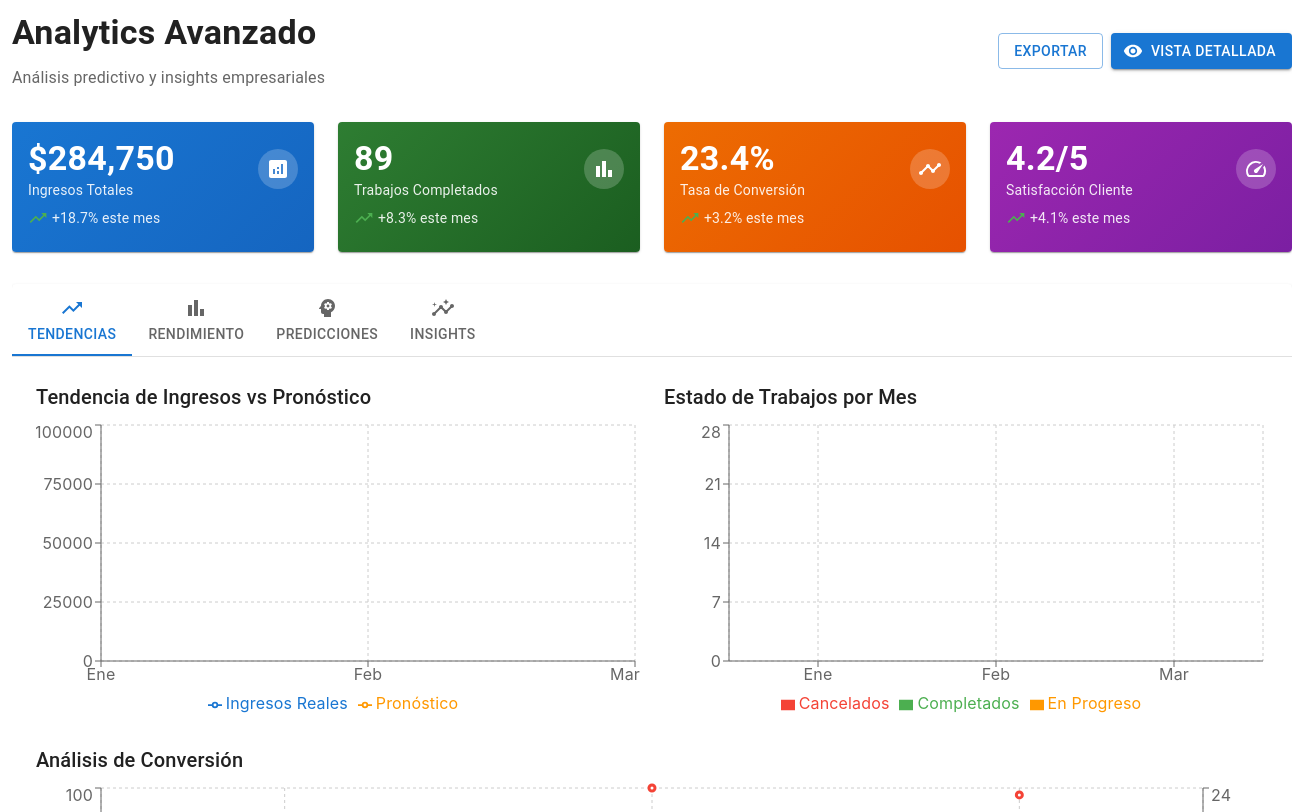
AdvancedAnalytics Component › switches between tabs correctly
expect the heading "Tendencia de Ingresos vs Pronóstico" is shown: met, box 36,385 -> 371,409
# Switch to Rendimiento tab
Click the tab "Rendimiento" at (196, 320), box 132,284 -> 260,356
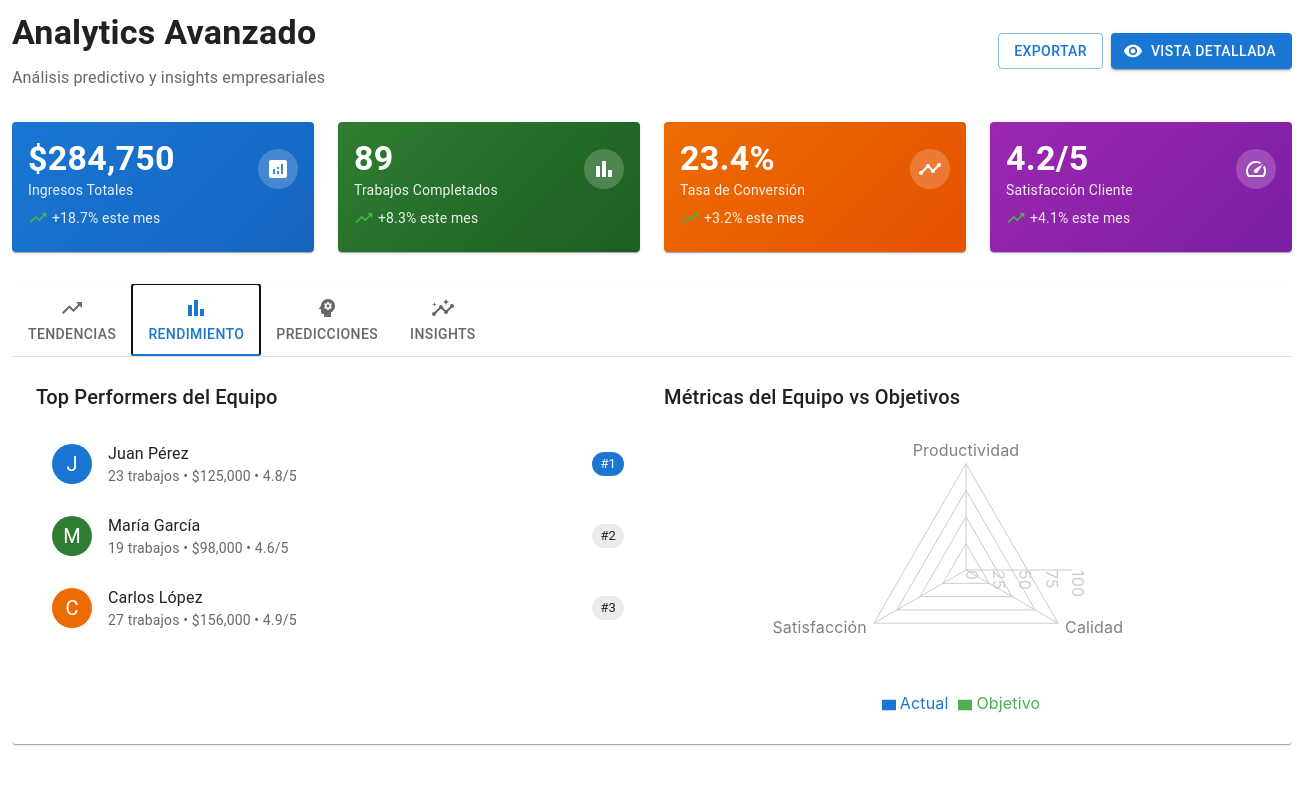
expect the heading "Top Performers del Equipo" is shown: met, box 36,385 -> 278,409
# Switch to Predicciones tab
Click the tab "Predicciones" at (327, 320), box 260,284 -> 394,356
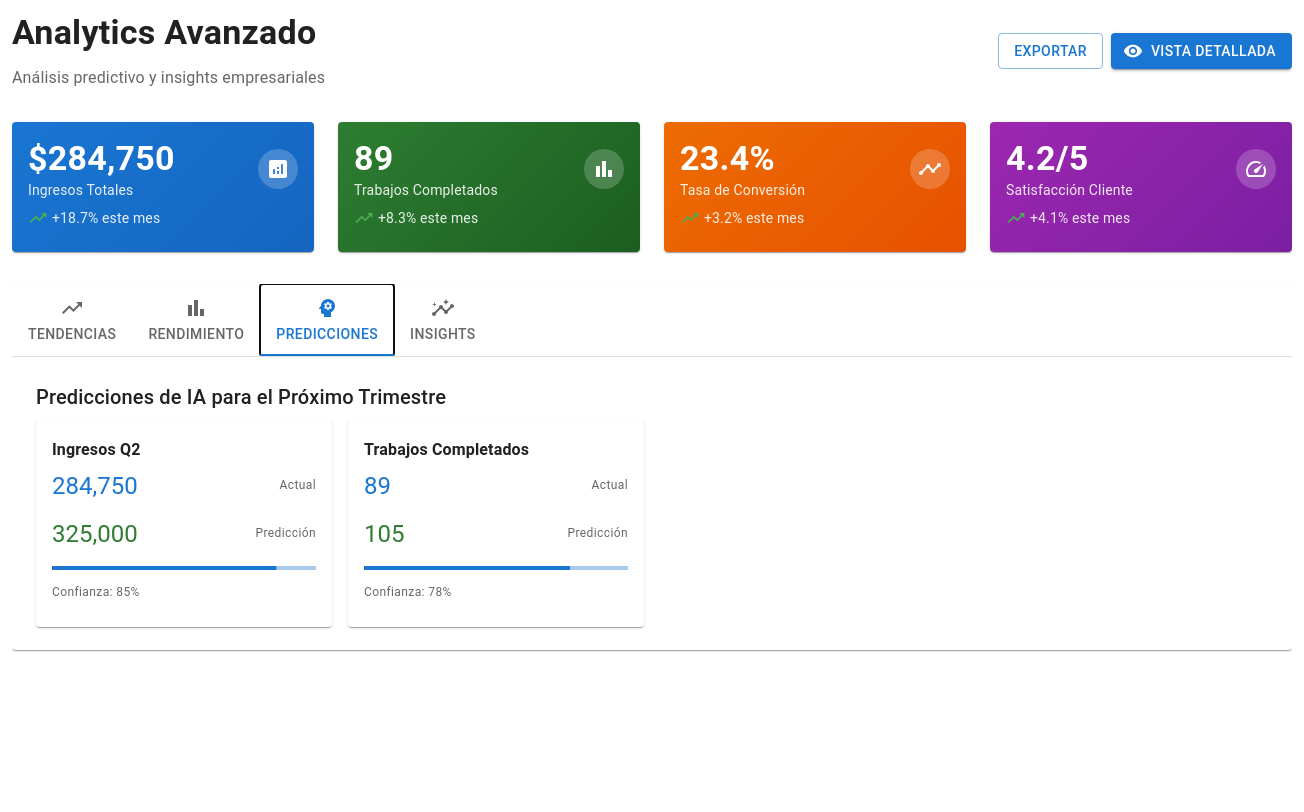
expect the heading "Predicciones de IA para el Próximo Trimestre" is shown: met, box 36,385 -> 446,409
# Switch to Insights tab
Click the tab "Insights" at (443, 320), box 394,284 -> 492,356
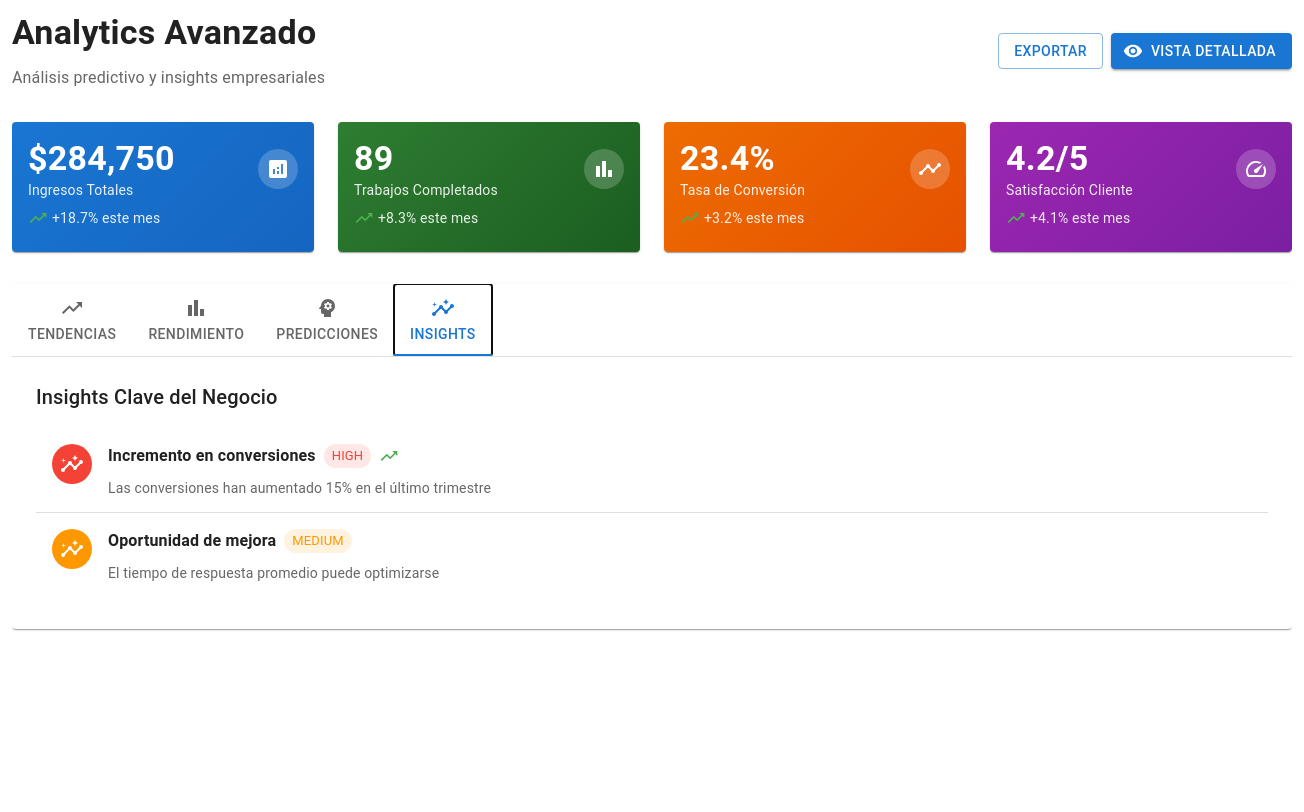
expect the heading "Insights Clave del Negocio" is shown: met, box 36,385 -> 278,409
